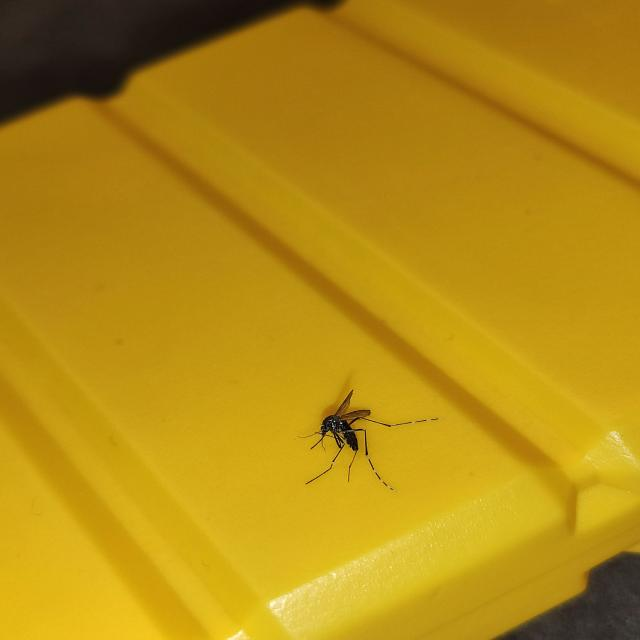albopictus: (289, 376, 446, 490)
